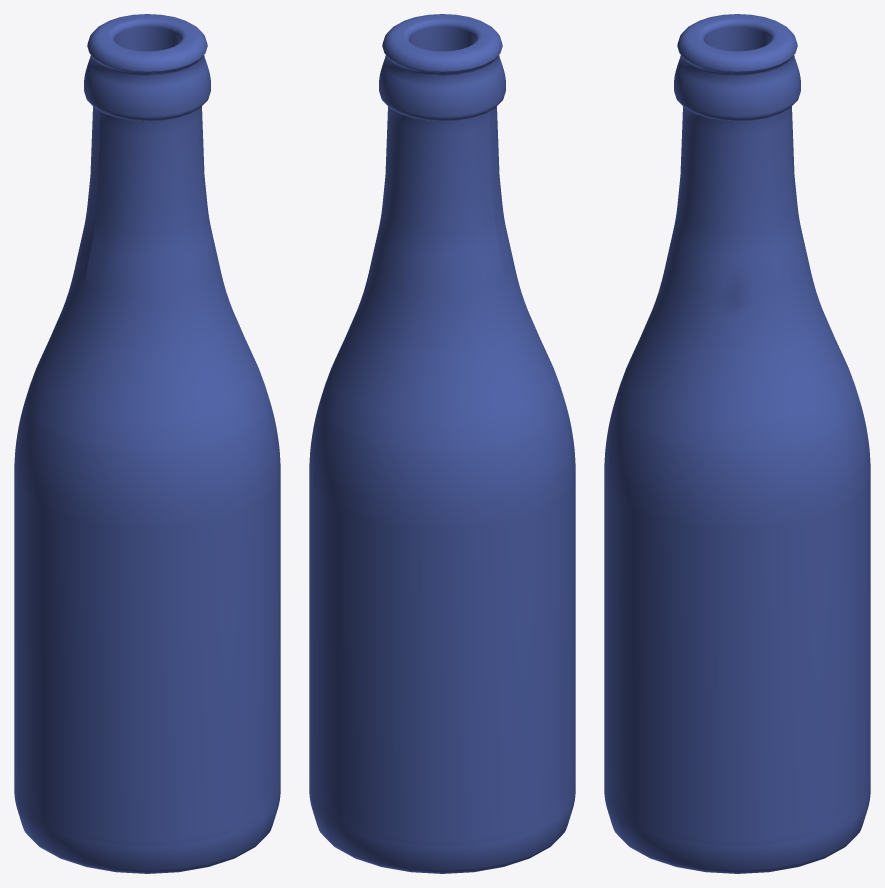
3 renders of one model, left to right at view 1: azimuth 30°, elevation 25°; view 2: azimuth 150°, elevation 25°; view 3: azimuth 270°, elevation 25°, orthographic.
Visible parts, largest first — view 1: mesh1_mesh1-geometry; view 2: mesh1_mesh1-geometry; view 3: mesh1_mesh1-geometry.
Part boxes in pixels (x1=…): mesh1_mesh1-geometry: x1=14, y1=14, x2=280, y2=873; mesh1_mesh1-geometry: x1=309, y1=14, x2=575, y2=873; mesh1_mesh1-geometry: x1=604, y1=14, x2=870, y2=873.
Bounding box in the file's own units: 0.245 × 0.7993 × 0.245.
